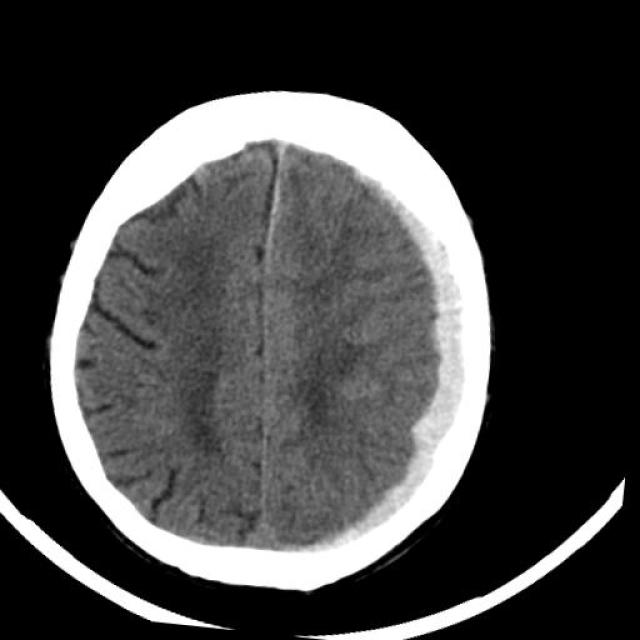Subdural: (304, 162, 510, 586)
